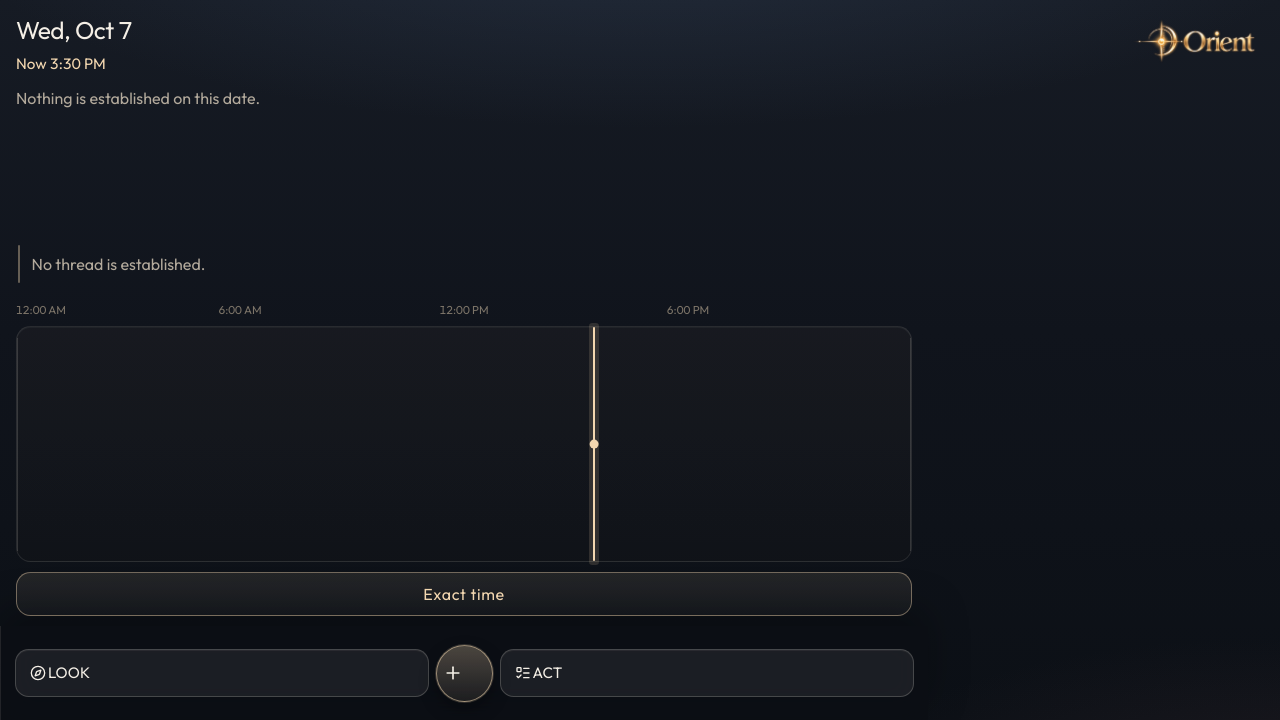
Scenario: LOOK · ADD · ACT phone grammar › phone LOOK initially discloses orientation calmly and keeps Question immediate
The width and height of the screenshot is (1280, 720).
Click the button "LOOK".
click(69, 672)  # box [15, 649, 429, 697]
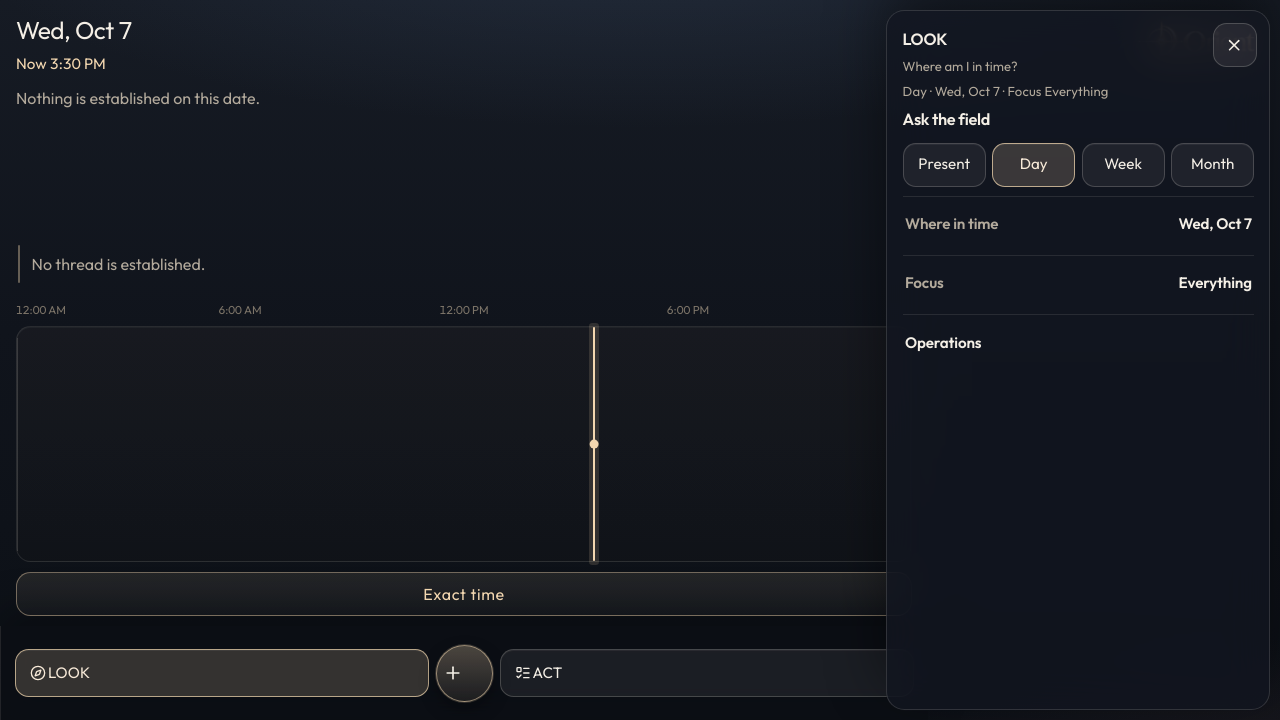
Expected: the text "Day · Wed, Oct 7 · Focus Everything" is shown, [903, 82, 1108, 102]
Expected: the element showing "Ask the field Present Day Week Month" is shown, [903, 107, 1254, 187]
Expected: the text "Everything" is shown, [1179, 272, 1252, 295]
